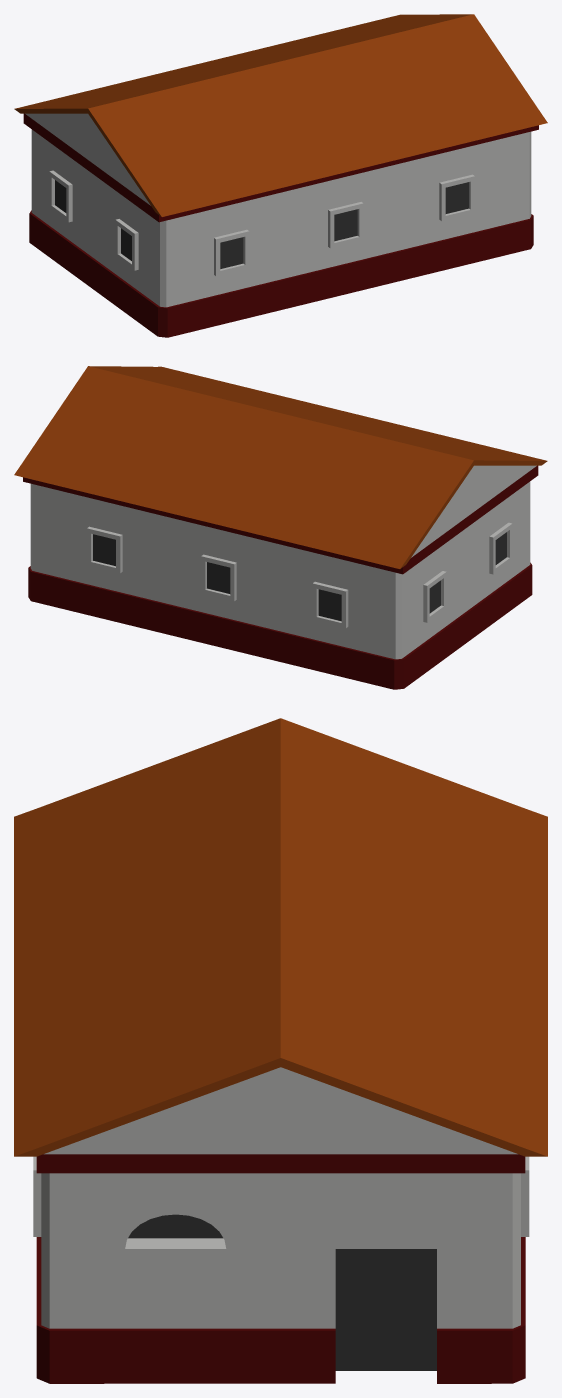
File: Roman Building 2 V2.fbx
3 views of the same model, one above another, from view 1: azimuth 30°, elevation 25°; view 2: azimuth 150°, elevation 25°; view 3: azimuth 270°, elevation 25° (orthographic). The views are drawn at different scales.
Parts seen in each view (by area): view 1: Roman Building 2; view 2: Roman Building 2; view 3: Roman Building 2.
Boxes of the visible parts, bbox=[...] form: Roman Building 2: bbox=[14, 14, 547, 337]; Roman Building 2: bbox=[14, 366, 547, 689]; Roman Building 2: bbox=[14, 718, 547, 1383].
Size of the model in its own units: 1910 by 864 by 1268.
